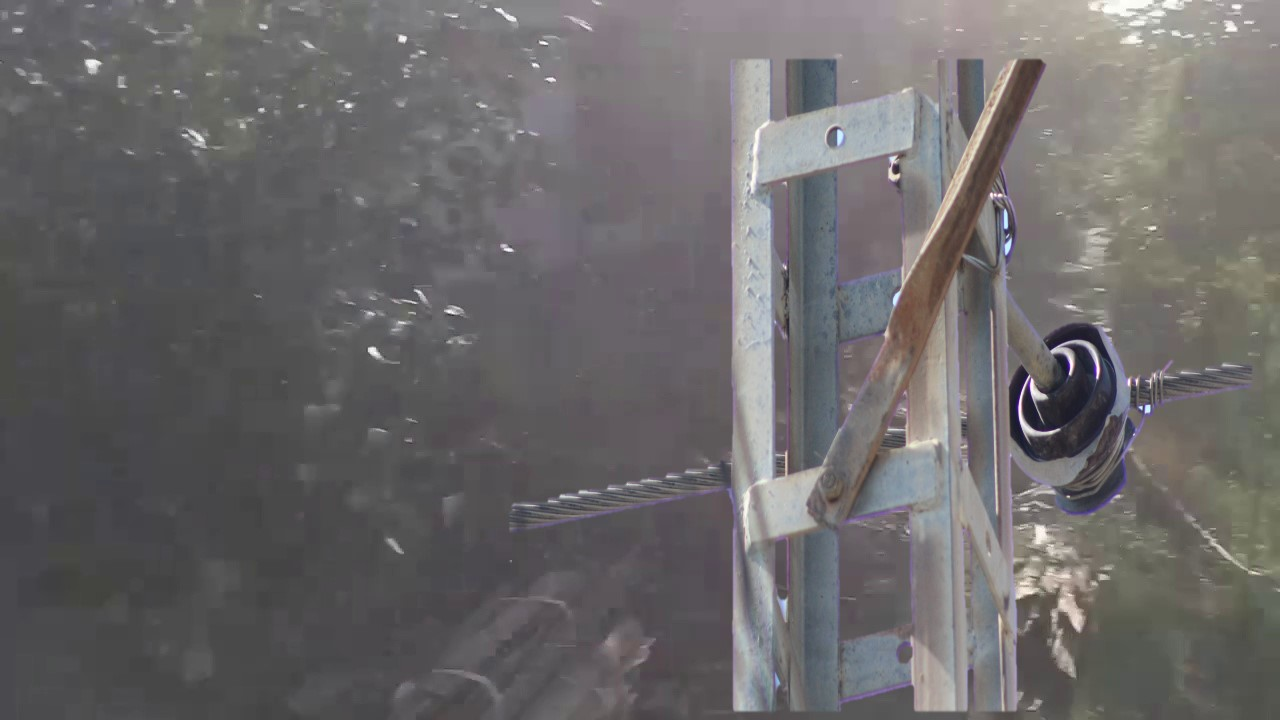defect_pin: (1000, 313, 1150, 524)
